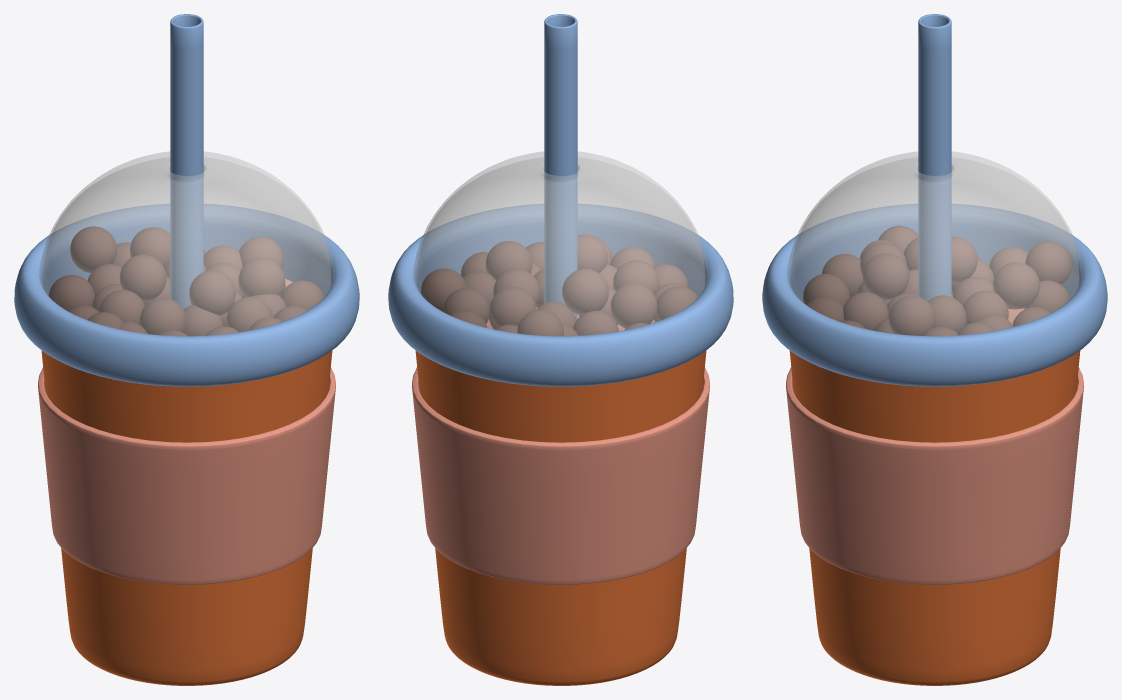
Rendered from boba.glb.
The picture shows the model from 3 angles, left to right: view 1: azimuth 30°, elevation 25°; view 2: azimuth 150°, elevation 25°; view 3: azimuth 270°, elevation 25°; orthographic projection.
Visible parts, largest first — view 1: Straw; view 2: Straw; view 3: Straw.
Boxes of the visible parts, left/top/right/bottom form: Straw: left=14, top=14, right=359, bottom=685; Straw: left=388, top=14, right=733, bottom=685; Straw: left=762, top=14, right=1107, bottom=685.
Size of the model in its own units: 0.1045 by 0.2067 by 0.1045.
Materials: 3 (3 with a texture image).
